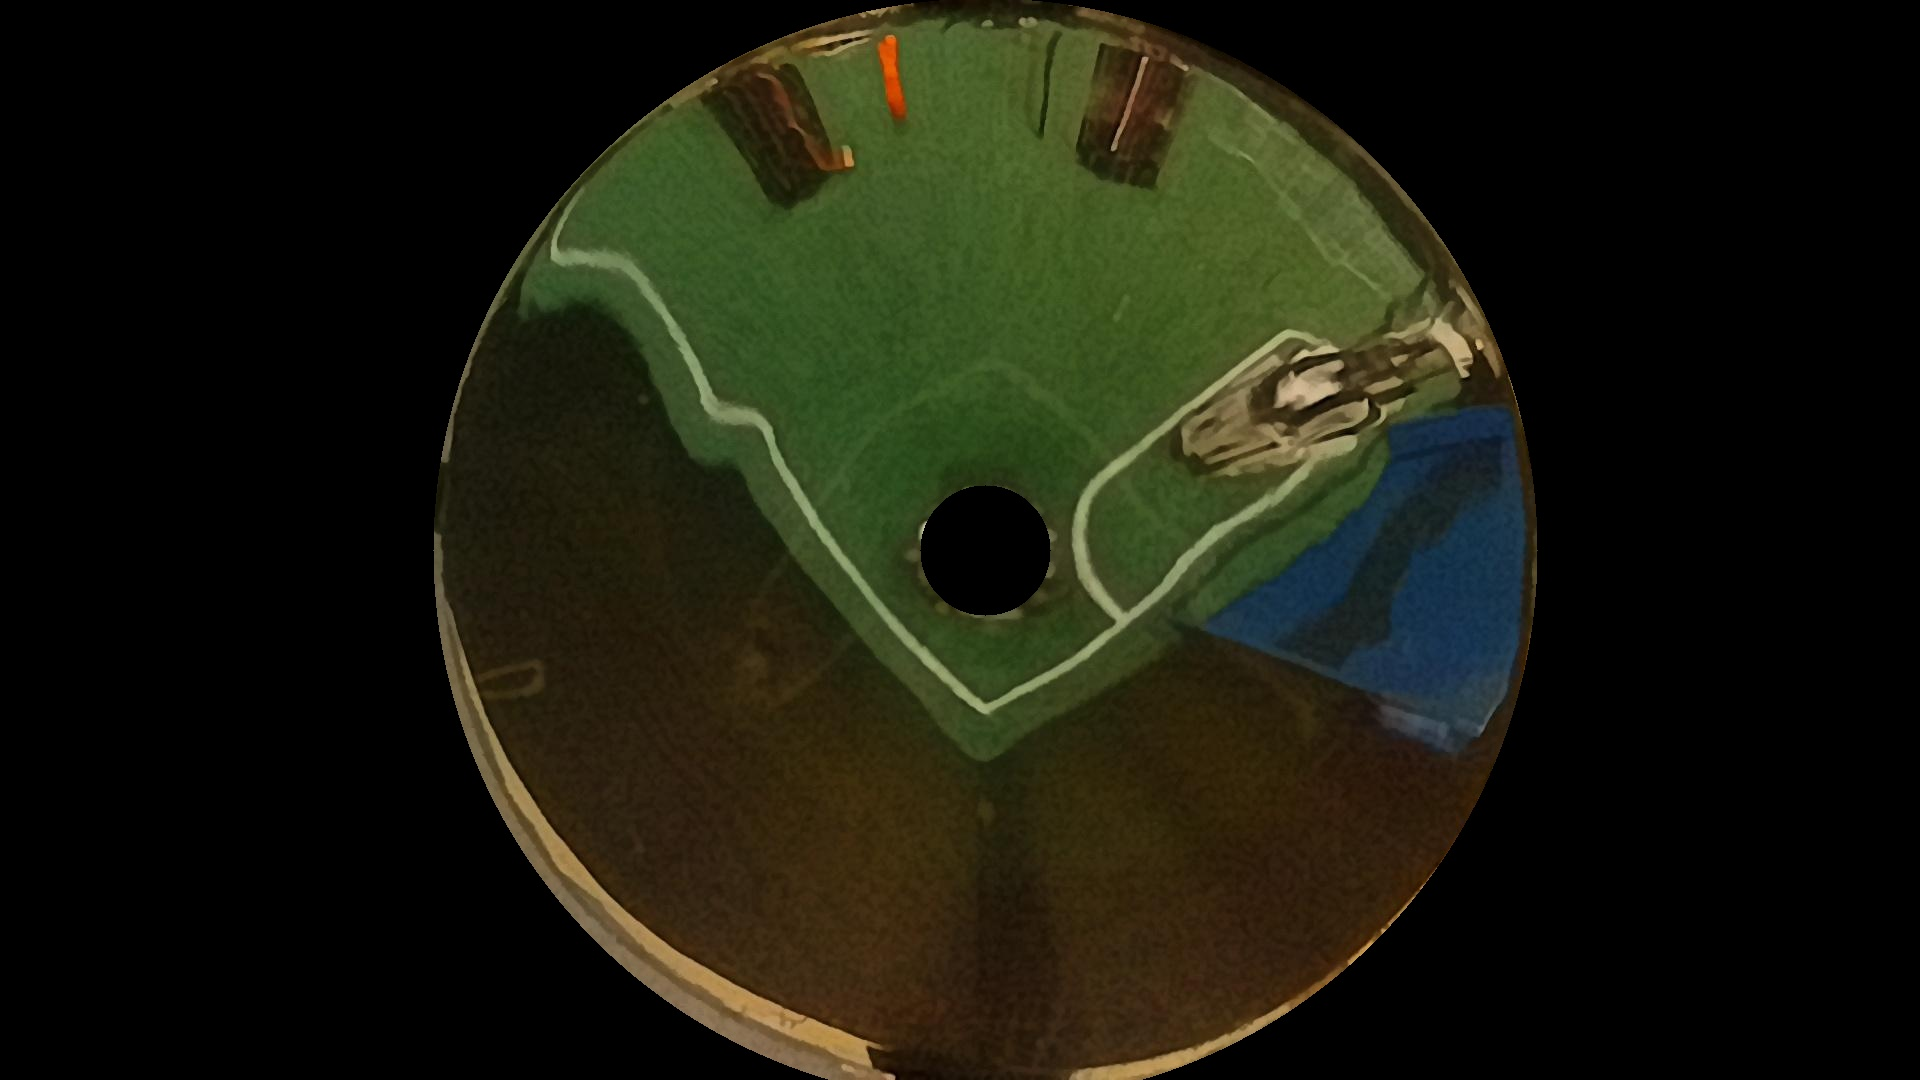ball: (868, 44, 924, 127)
blue-goal: (1182, 386, 1530, 732)
robots: (1185, 330, 1428, 484), (1026, 28, 1197, 186), (705, 58, 828, 212)
